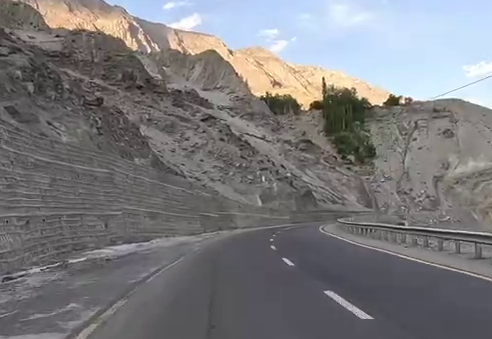stright: (228, 213, 390, 295)
